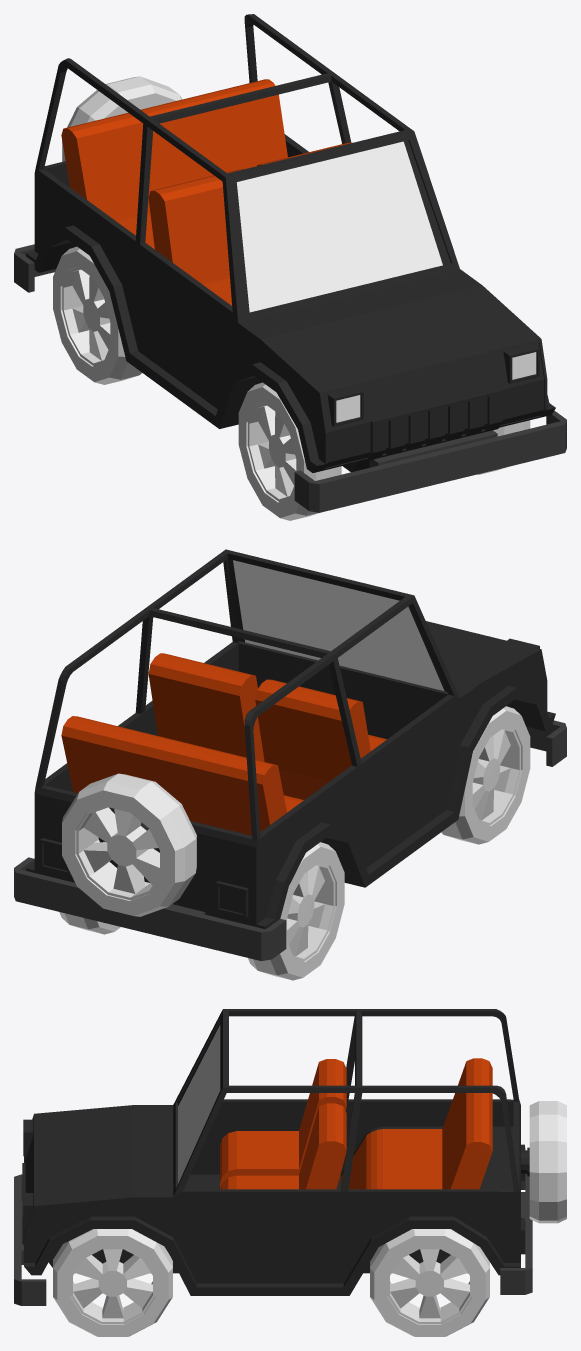
Rendered from jeep_1.glb.
3 renders of one model, top to bottom at view 1: azimuth 30°, elevation 25°; view 2: azimuth 150°, elevation 25°; view 3: azimuth 270°, elevation 25°, orthographic. The views are drawn at different scales.
Parts seen in each view (by area): view 1: jeep_body, jeep_seat, jeep_bumpber, jeep_tire_front, jeep_tire_back, jeep_bump, jeep_headlight; view 2: jeep_body, jeep_seat, jeep_bumpber, jeep_tire_back, jeep_tire_front, jeep_backlight; view 3: jeep_body, jeep_seat, jeep_tire_front, jeep_tire_back, jeep_bumpber.
Part boxes in pixels (x1,y1,x2,y2): jeep_body: (26,14,555,472); jeep_seat: (61,79,352,305); jeep_bumpber: (14,244,566,512); jeep_tire_front: (238,382,530,520); jeep_tire_back: (53,246,141,384); jeep_bump: (367,389,502,460); jeep_headlight: (336,352,536,422); jeep_body: (26,549,555,929); jeep_seat: (61,653,386,835); jeep_bumpber: (14,720,566,960); jeep_tire_back: (59,842,344,980); jeep_tire_front: (441,706,530,844); jeep_backlight: (40,838,248,917); jeep_body: (23,1009,566,1295); jeep_seat: (220,1058,492,1189); jeep_tire_front: (53,1229,172,1336); jeep_tire_back: (370,1229,489,1336); jeep_bumpber: (14,1174,532,1305).
Bounding box in the file's own units: 1.02 × 1.09 × 2.23.
